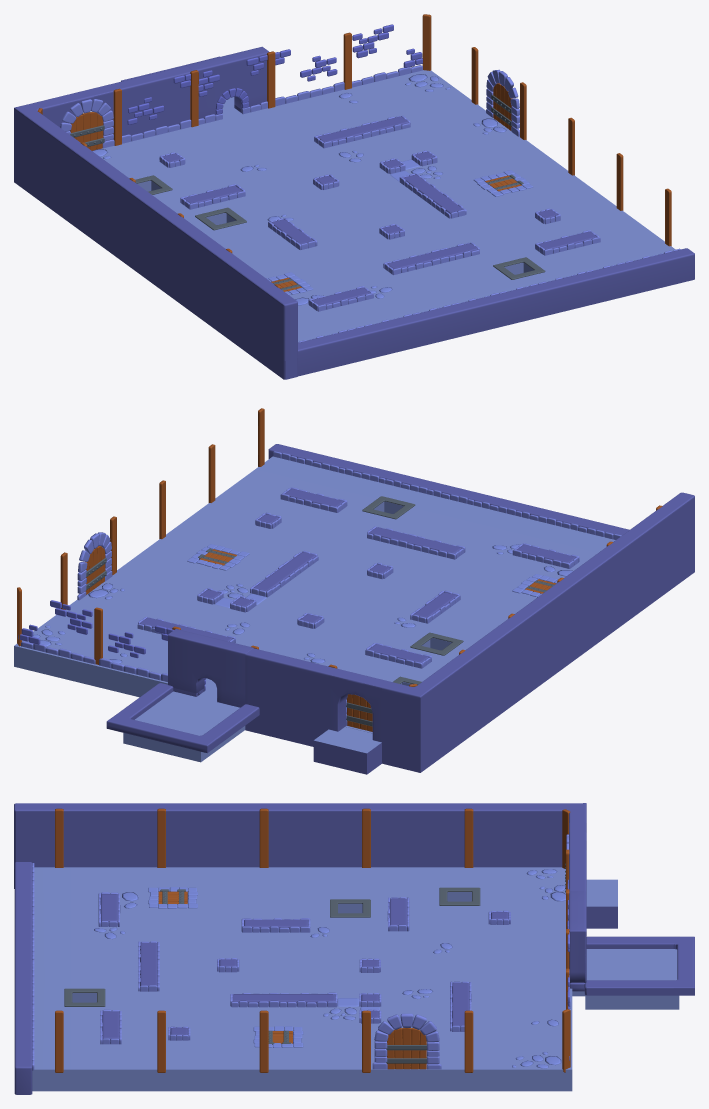
Rendered from MapTemp1.fbx.
The picture shows the model from 3 angles, top to bottom: view 1: azimuth 30°, elevation 25°; view 2: azimuth 150°, elevation 25°; view 3: azimuth 270°, elevation 25°; orthographic projection. The views are drawn at different scales.
Visible parts, largest first — view 1: pCube17, Gate1, group51_pCube32, Gate, group51_pCube31, group51_pCube29, DoorFrame1, DoorFrame2, Door, group49_group46_pCube35, group49_group46_pCube36, group49_group46_pCube34 (+2 smaller); view 2: pCube17, Gate1, Gate, group51_pCube32, pCube78, group51_pCube31, group51_pCube29, DoorFrame2, group49_group46_pCube35, group49_group46_pCube36, group49_group46_pCube34, Door (+2 smaller); view 3: pCube17, Gate1, group51_pCube32, pCube78, DoorFrame2, Gate, Door1, group51_pCube29, pCube122 (×2), pCube120 (×2), pCube18 (×2), group51_pCube31 (+10 smaller).
Part boxes in pixels (x1,y1,x2,y2): pCube17: (100,70,675,342); Gate1: (14,65,297,379); group51_pCube32: (298,248,694,376); Gate: (186,46,268,118); group51_pCube31: (383,242,479,275); group51_pCube29: (399,173,466,218); DoorFrame1: (60,99,114,148); DoorFrame2: (486,69,519,136); Door: (70,112,104,150); group49_group46_pCube35: (308,286,373,311); group49_group46_pCube36: (535,230,600,255); group49_group46_pCube34: (268,218,317,249); pCube17: (14,456,615,762); Gate1: (245,492,694,774); Gate: (168,629,253,707); group51_pCube32: (268,444,629,535); pCube78: (106,683,259,753); group51_pCube31: (367,526,465,559); group51_pCube29: (250,551,318,597); DoorFrame2: (77,532,112,600); group49_group46_pCube35: (512,543,579,568); group49_group46_pCube36: (280,487,347,512); group49_group46_pCube34: (410,590,460,623); Door: (346,694,372,731); pCube17: (32,867,679,1091); Gate1: (14,803,617,928); group51_pCube32: (14,862,34,1094); pCube78: (584,936,694,995); DoorFrame2: (372,1013,441,1069); Gate: (569,891,586,982); Door1: (386,1027,426,1069); group51_pCube29: (230,992,337,1007); pCube122 (×2): (259,808,268,1072); pCube120 (×2): (464,808,473,1072); pCube18 (×2): (389,898,469,1030); group51_pCube31: (138,941,159,991).
Size of the model in its own units: 1.72 by 0.3023 by 2.33.
